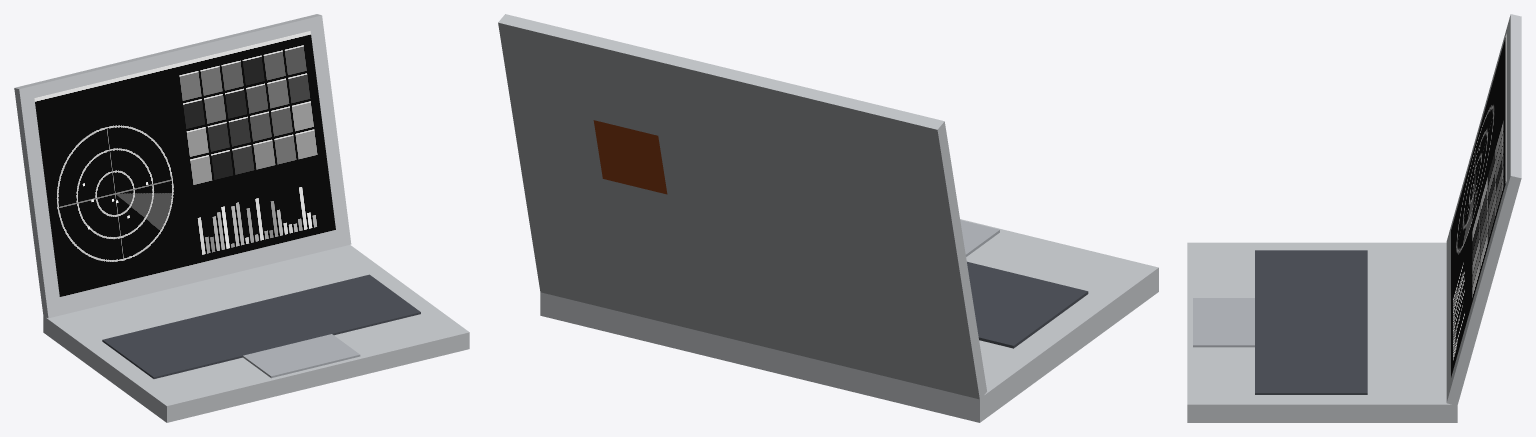
Rendered from Tech_Laptop.gltf.
3 renders of one model, left to right at view 1: azimuth 30°, elevation 25°; view 2: azimuth 150°, elevation 25°; view 3: azimuth 270°, elevation 25°, orthographic. The views are drawn at different scales.
Parts seen in each view (by area): view 1: Tech_Laptop; view 2: Tech_Laptop; view 3: Tech_Laptop.
Boxes of the visible parts, <box> form: Tech_Laptop: <box>14,14,469,422</box>; Tech_Laptop: <box>498,14,1158,422</box>; Tech_Laptop: <box>1187,14,1521,422</box>.
Bounding box in the file's own units: 0.34 × 0.2421 × 0.2967.
Materials: 5 (1 with a texture image).
